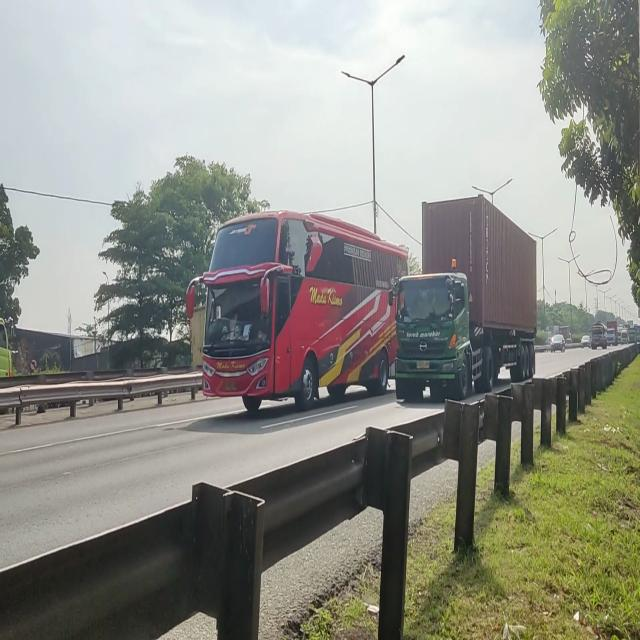Golongan I: (187, 206, 409, 418)
Golongan V: (394, 215, 537, 426)
